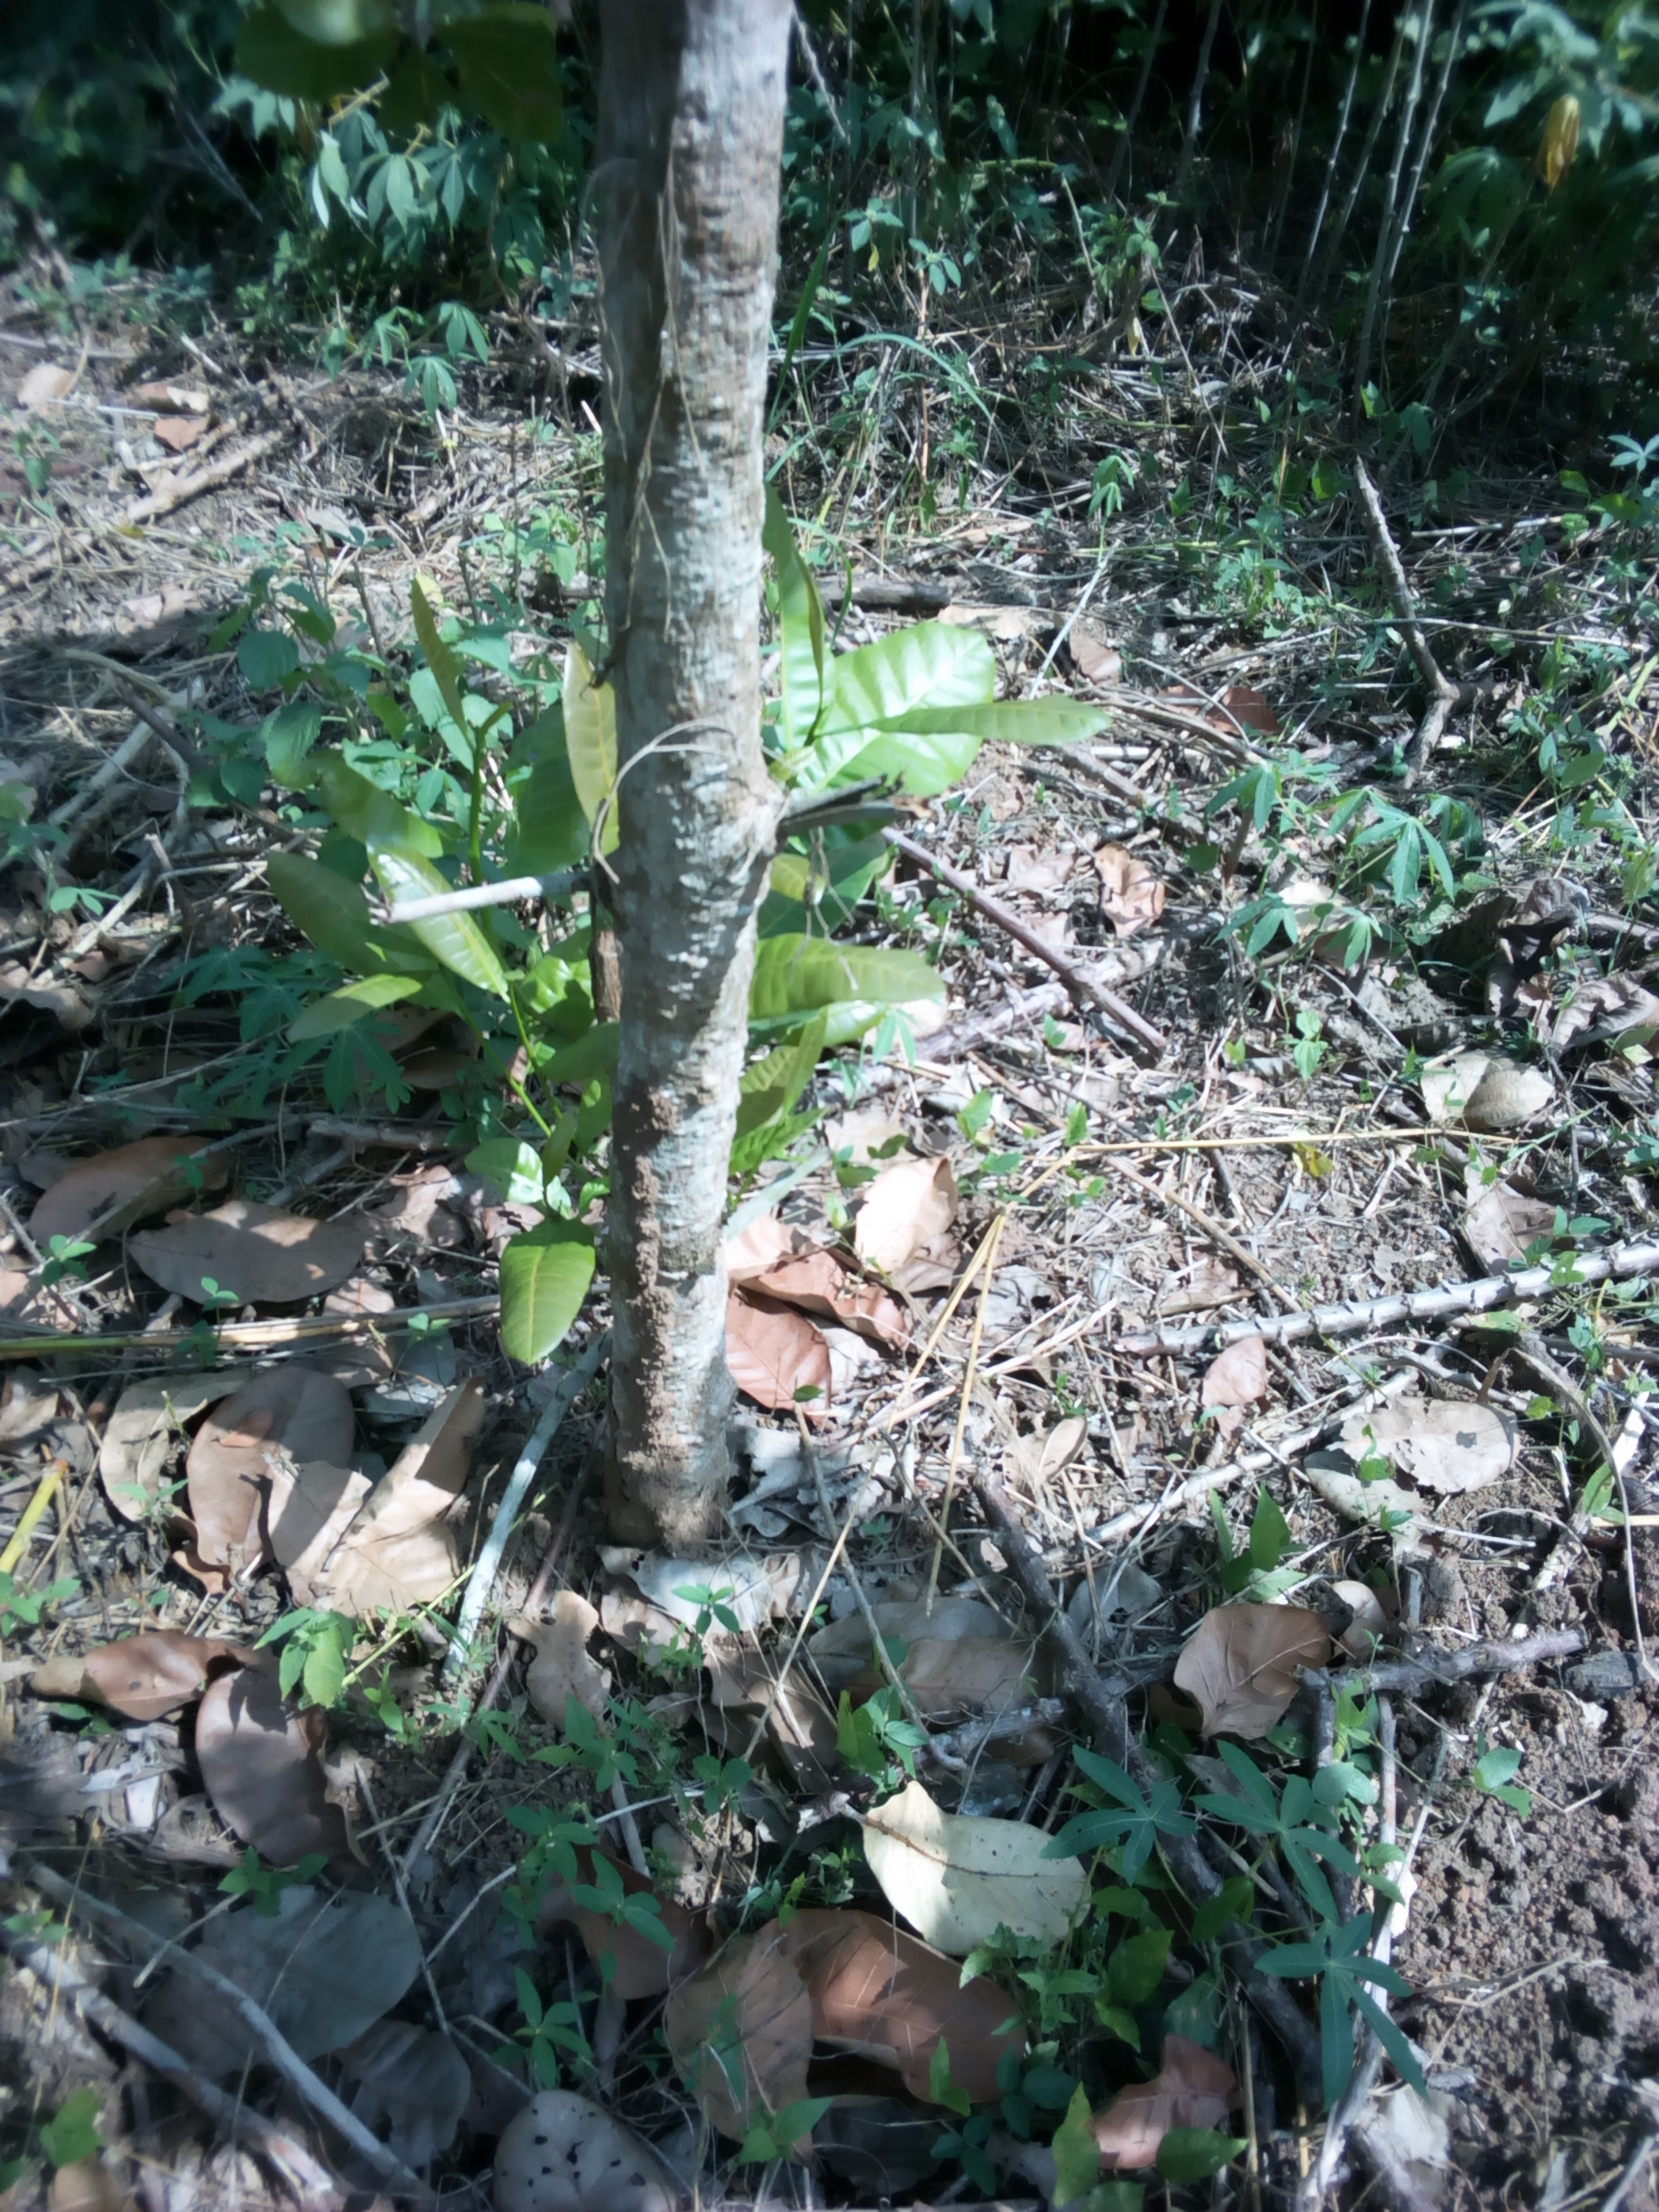Termites: (622, 1137, 694, 1472)
